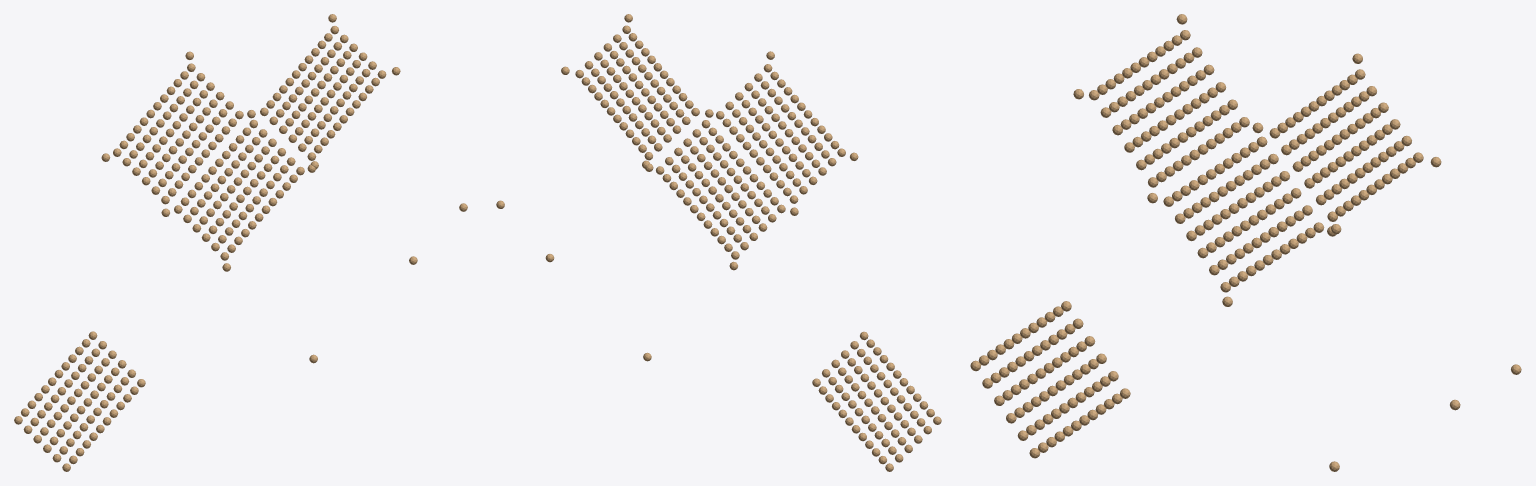
Rendered from nodes.glb.
3 views of the same model, side by side, from view 1: azimuth 30°, elevation 25°; view 2: azimuth 150°, elevation 25°; view 3: azimuth 330°, elevation 25° (orthographic). The views are drawn at different scales.
Size of the model in its own units: 118 by 98.86 by 3.36.
